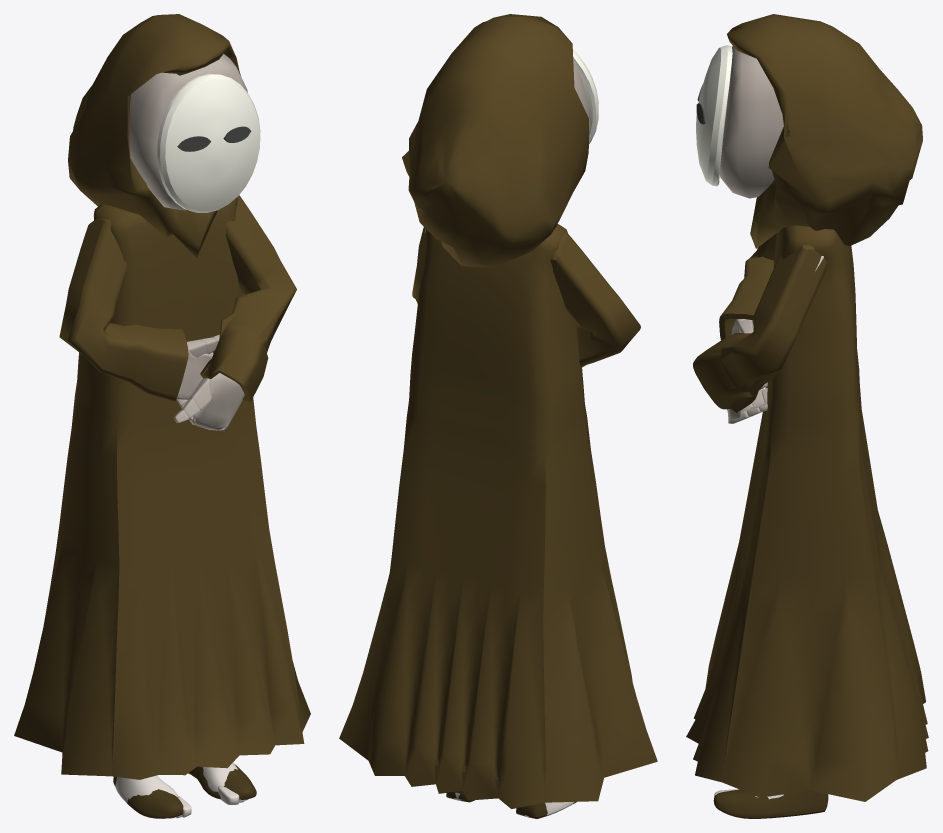
Rendered from geminin_fixed.fbx.
The picture shows the model from 3 angles, left to right: view 1: azimuth 30°, elevation 25°; view 2: azimuth 150°, elevation 25°; view 3: azimuth 270°, elevation 25°; orthographic projection.
Visible parts, largest first — view 1: polySurface3, Caputxa1, polySurface8, màscara, polySurface9, head_geo, R_palm_R_geo (×2), foot_R_geo, foot_L_geo, foot_R_geo1; view 2: polySurface3, Caputxa1, polySurface8, màscara; view 3: polySurface3, Caputxa1, polySurface9, head_geo, màscara, foot_L_geo, polySurface8.
Part boxes in pixels (x1,y1,x2,y2): polySurface3: [14, 197, 310, 779]; Caputxa1: [68, 14, 240, 257]; polySurface8: [59, 218, 188, 401]; màscara: [157, 73, 260, 212]; polySurface9: [200, 195, 296, 401]; head_geo: [129, 53, 247, 210]; R_palm_R_geo (×2): [176, 351, 244, 430]; foot_R_geo: [113, 776, 183, 818]; foot_L_geo: [188, 764, 256, 799]; foot_R_geo1: [115, 775, 178, 802]; polySurface3: [339, 224, 657, 808]; Caputxa1: [402, 14, 588, 267]; polySurface8: [550, 232, 640, 367]; màscara: [573, 49, 598, 143]; polySurface3: [686, 225, 928, 801]; Caputxa1: [727, 14, 922, 248]; polySurface9: [693, 244, 827, 413]; head_geo: [719, 46, 783, 198]; màscara: [696, 45, 732, 186]; foot_L_geo: [713, 789, 828, 818]; polySurface8: [719, 233, 776, 340].
Size of the model in its own units: 1.24 by 3.48 by 0.9859.
